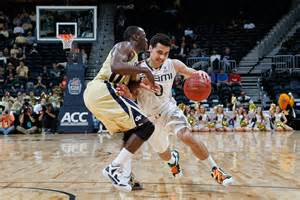basketball: (185, 78, 209, 99)
